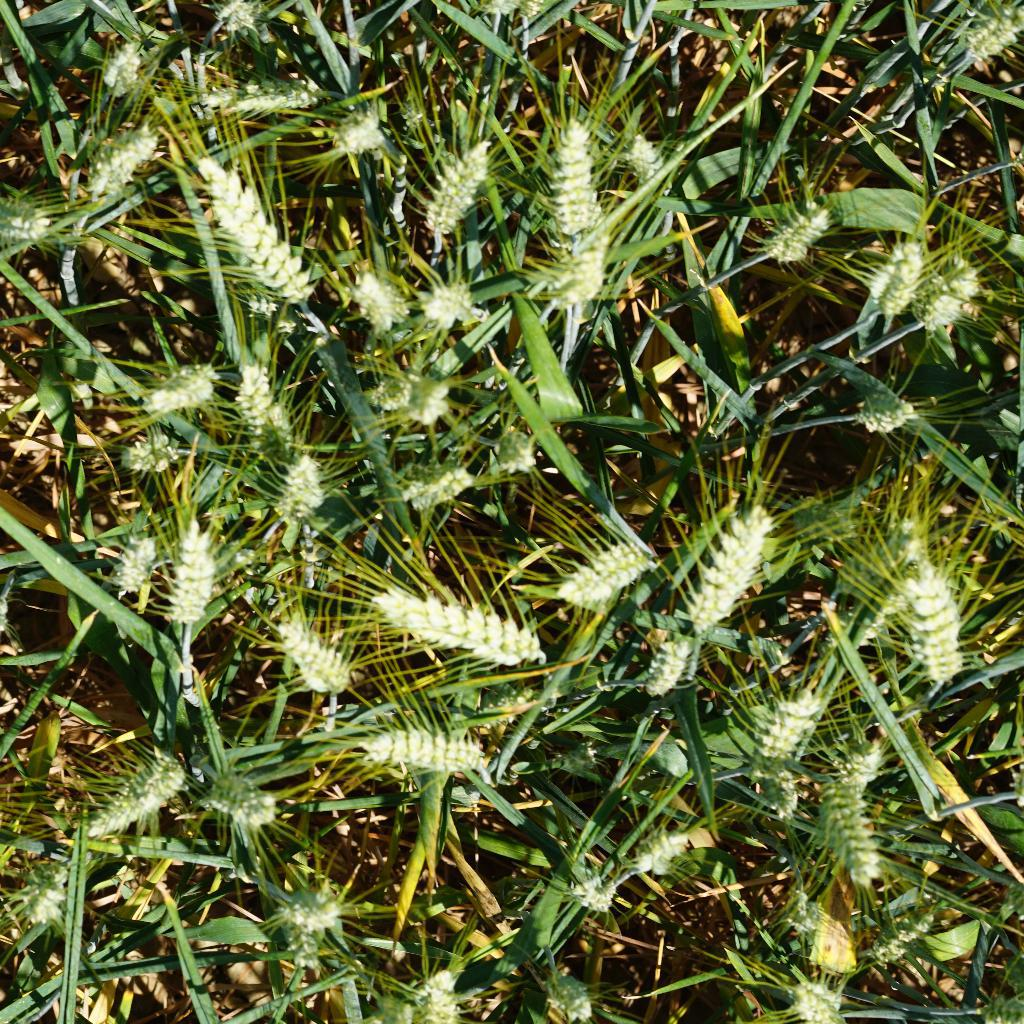0-0: (372, 565, 549, 680), (197, 150, 313, 316), (890, 534, 980, 688), (820, 508, 943, 602), (86, 736, 180, 848), (690, 503, 770, 632), (351, 716, 500, 784), (522, 227, 624, 325), (537, 105, 605, 238), (560, 524, 653, 620), (819, 765, 894, 884), (410, 133, 484, 247), (160, 496, 219, 632), (277, 606, 358, 699), (744, 180, 829, 268), (859, 223, 929, 326), (905, 249, 982, 342), (67, 126, 164, 199), (740, 683, 825, 761), (392, 451, 484, 523), (200, 757, 281, 837), (206, 62, 324, 116), (789, 889, 855, 976), (336, 257, 404, 340), (776, 487, 865, 548), (0, 185, 71, 257), (955, 0, 1021, 77), (109, 419, 189, 481), (137, 348, 221, 407), (615, 118, 671, 204), (29, 840, 77, 938), (272, 441, 328, 523), (869, 904, 930, 978), (404, 367, 464, 437), (105, 516, 152, 605), (623, 817, 686, 882), (465, 679, 548, 727), (230, 363, 281, 441), (568, 855, 624, 926), (833, 725, 899, 783), (273, 886, 339, 944), (788, 974, 864, 1024), (860, 381, 927, 436), (542, 963, 601, 1024), (92, 27, 149, 90), (748, 755, 800, 823), (646, 630, 703, 690), (365, 357, 411, 429), (326, 94, 382, 153), (414, 965, 464, 1024), (488, 422, 537, 482), (213, 0, 269, 49), (423, 276, 474, 329), (554, 735, 612, 778)
